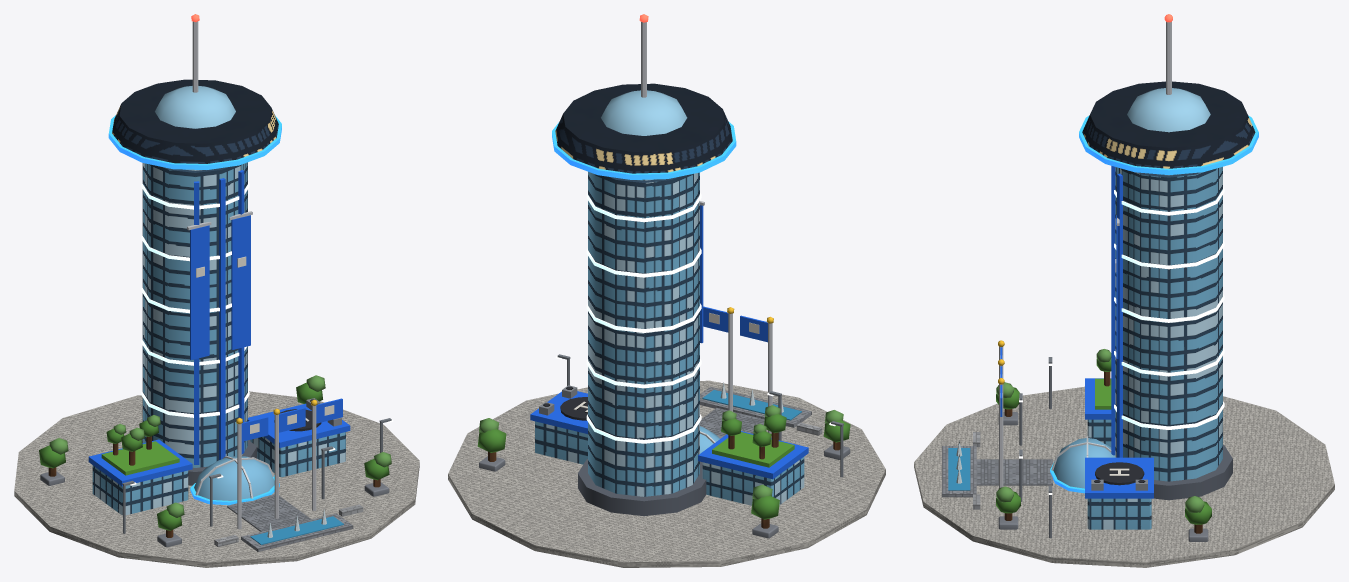
The model's file is residence_dl7_blue.glb.
3 views of the same model, side by side, from view 1: azimuth 30°, elevation 25°; view 2: azimuth 150°, elevation 25°; view 3: azimuth 270°, elevation 25° (orthographic). The views are drawn at different scales.
Visible parts, largest first — view 1: residence_dl7_blue; view 2: residence_dl7_blue; view 3: residence_dl7_blue.
Boxes of the visible parts, box(x1,y1,x2,y2) form: residence_dl7_blue: box(14, 14, 419, 567); residence_dl7_blue: box(448, 14, 885, 567); residence_dl7_blue: box(914, 14, 1334, 567).
Bounding box in the file's own units: 1.71 × 2.08 × 1.71.
5 materials, 1 textured.
